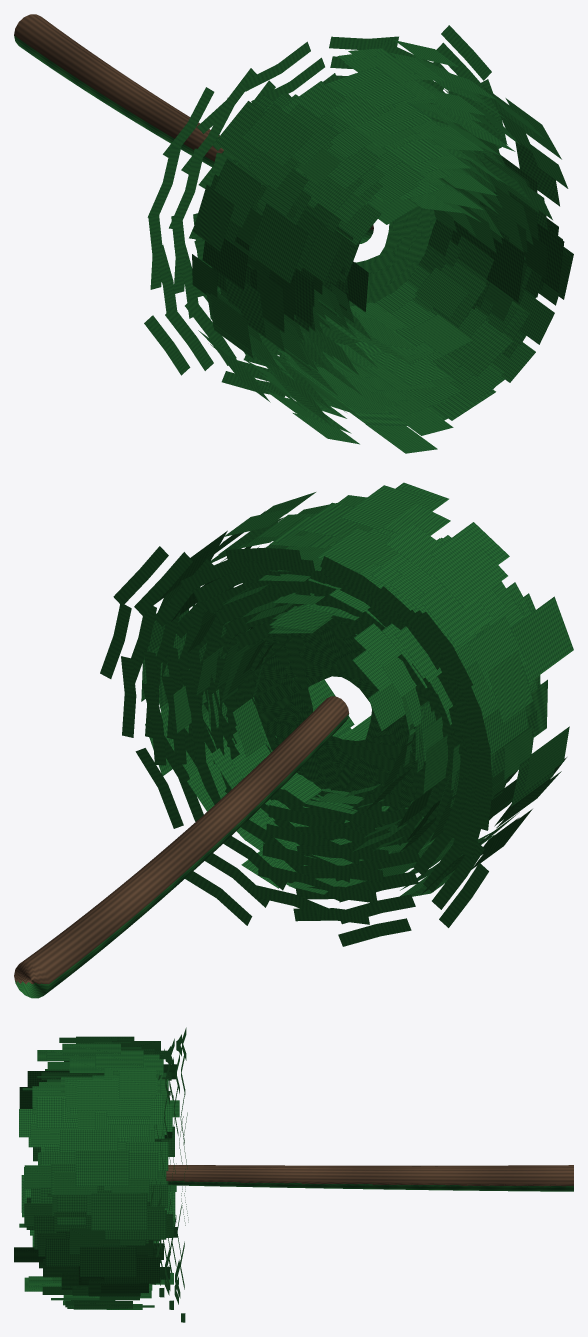
The model's file is veg_tropical_palm_01.obj.
The picture shows the model from 3 angles, top to bottom: view 1: azimuth 30°, elevation 25°; view 2: azimuth 150°, elevation 25°; view 3: azimuth 270°, elevation 25°; orthographic projection. The views are drawn at different scales.
Parts seen in each view (by area): view 1: veg_tropical_palm_01; view 2: veg_tropical_palm_01; view 3: veg_tropical_palm_01.
Boxes of the visible parts, <box> form: veg_tropical_palm_01: <box>14,14,573,453</box>; veg_tropical_palm_01: <box>14,482,573,998</box>; veg_tropical_palm_01: <box>14,1027,573,1322</box>.
Bounding box in the file's own units: 2.94 × 2.76 × 5.5.
1 material, 1 textured.
